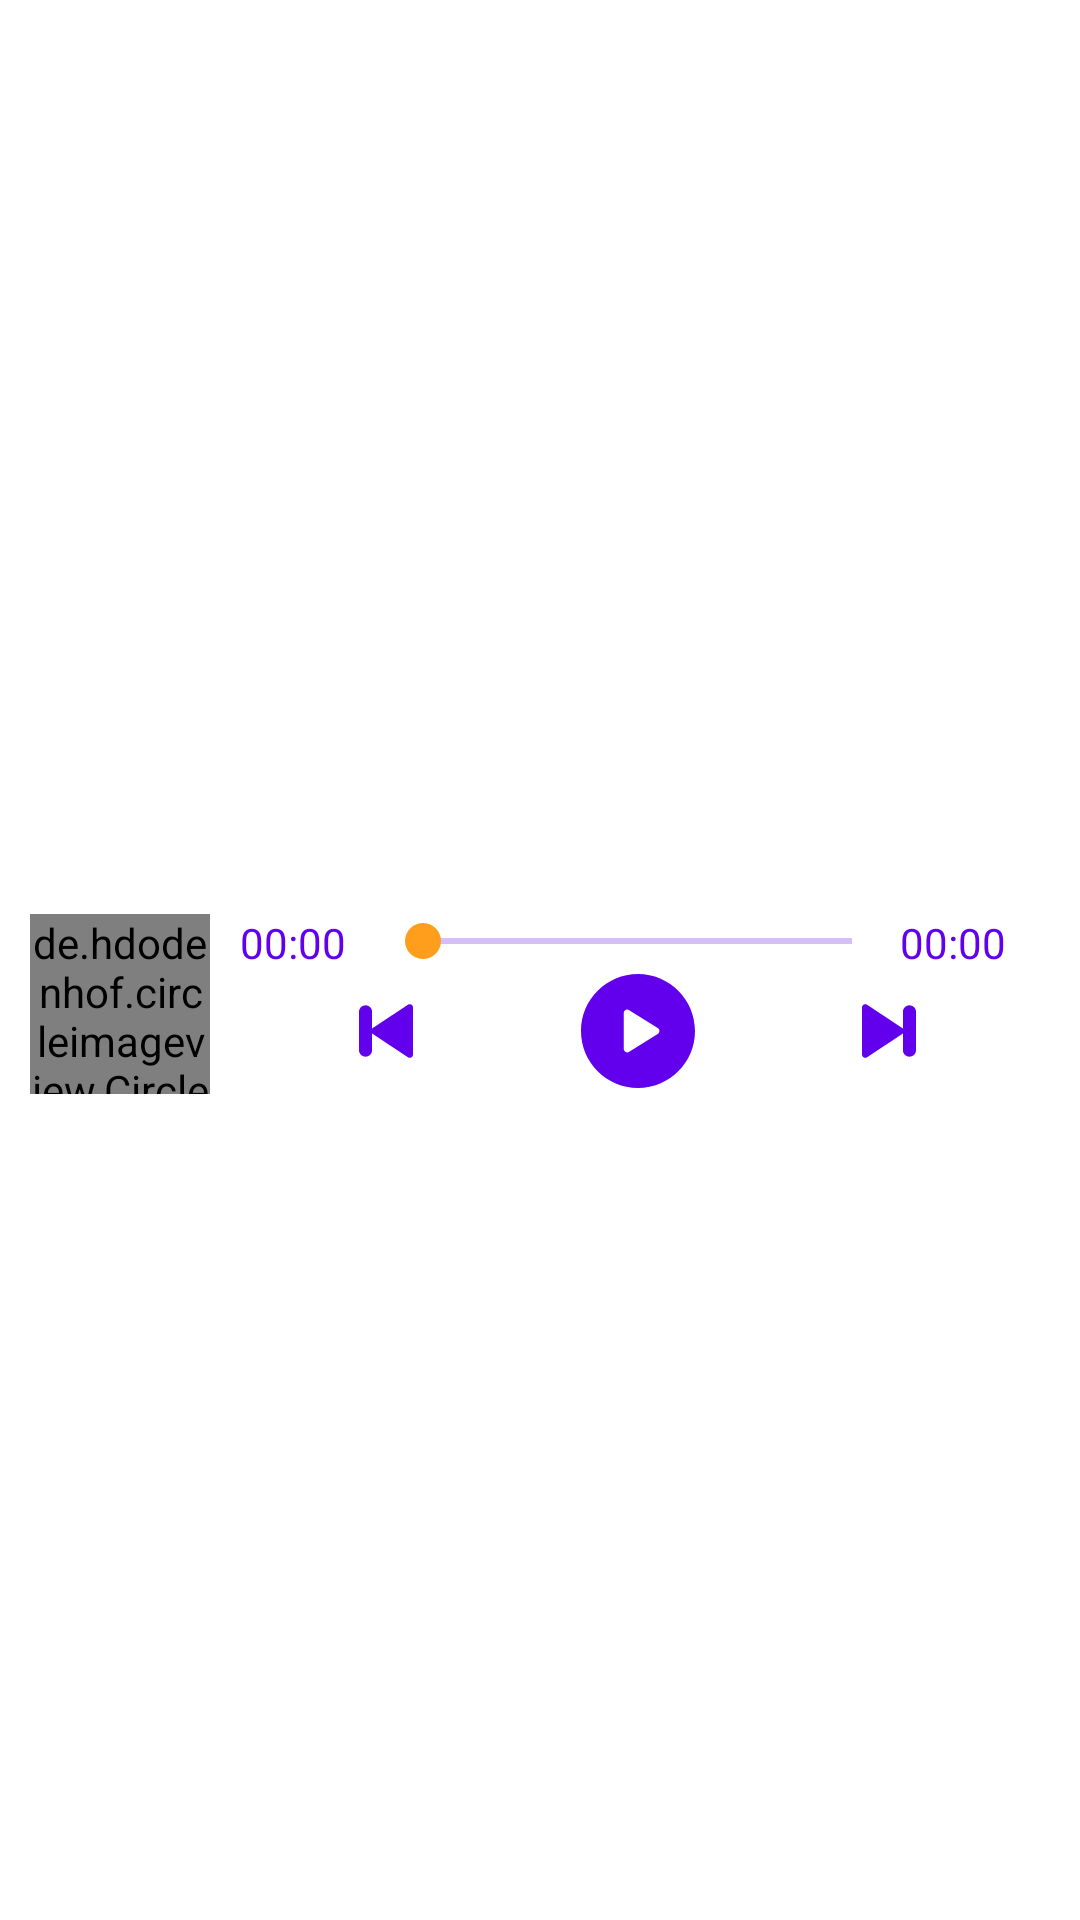

Screen size 1080×1920. Icon name, then its center in pixels as (x,y):
play: (638,1031)
skip next: (889,1031)
skip previous: (386,1031)
